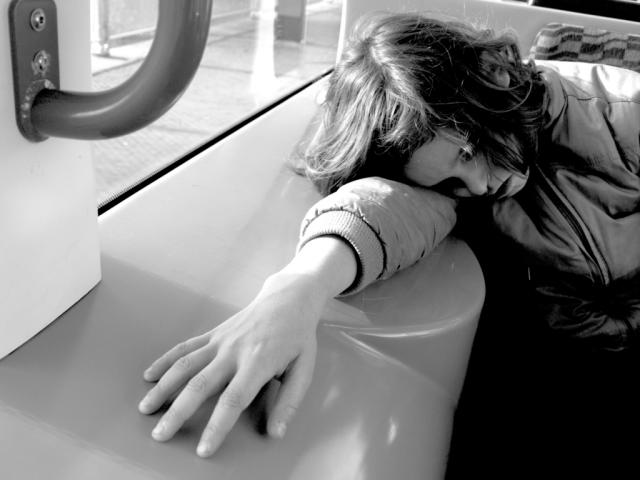Door-handle: (8, 0, 219, 148)
